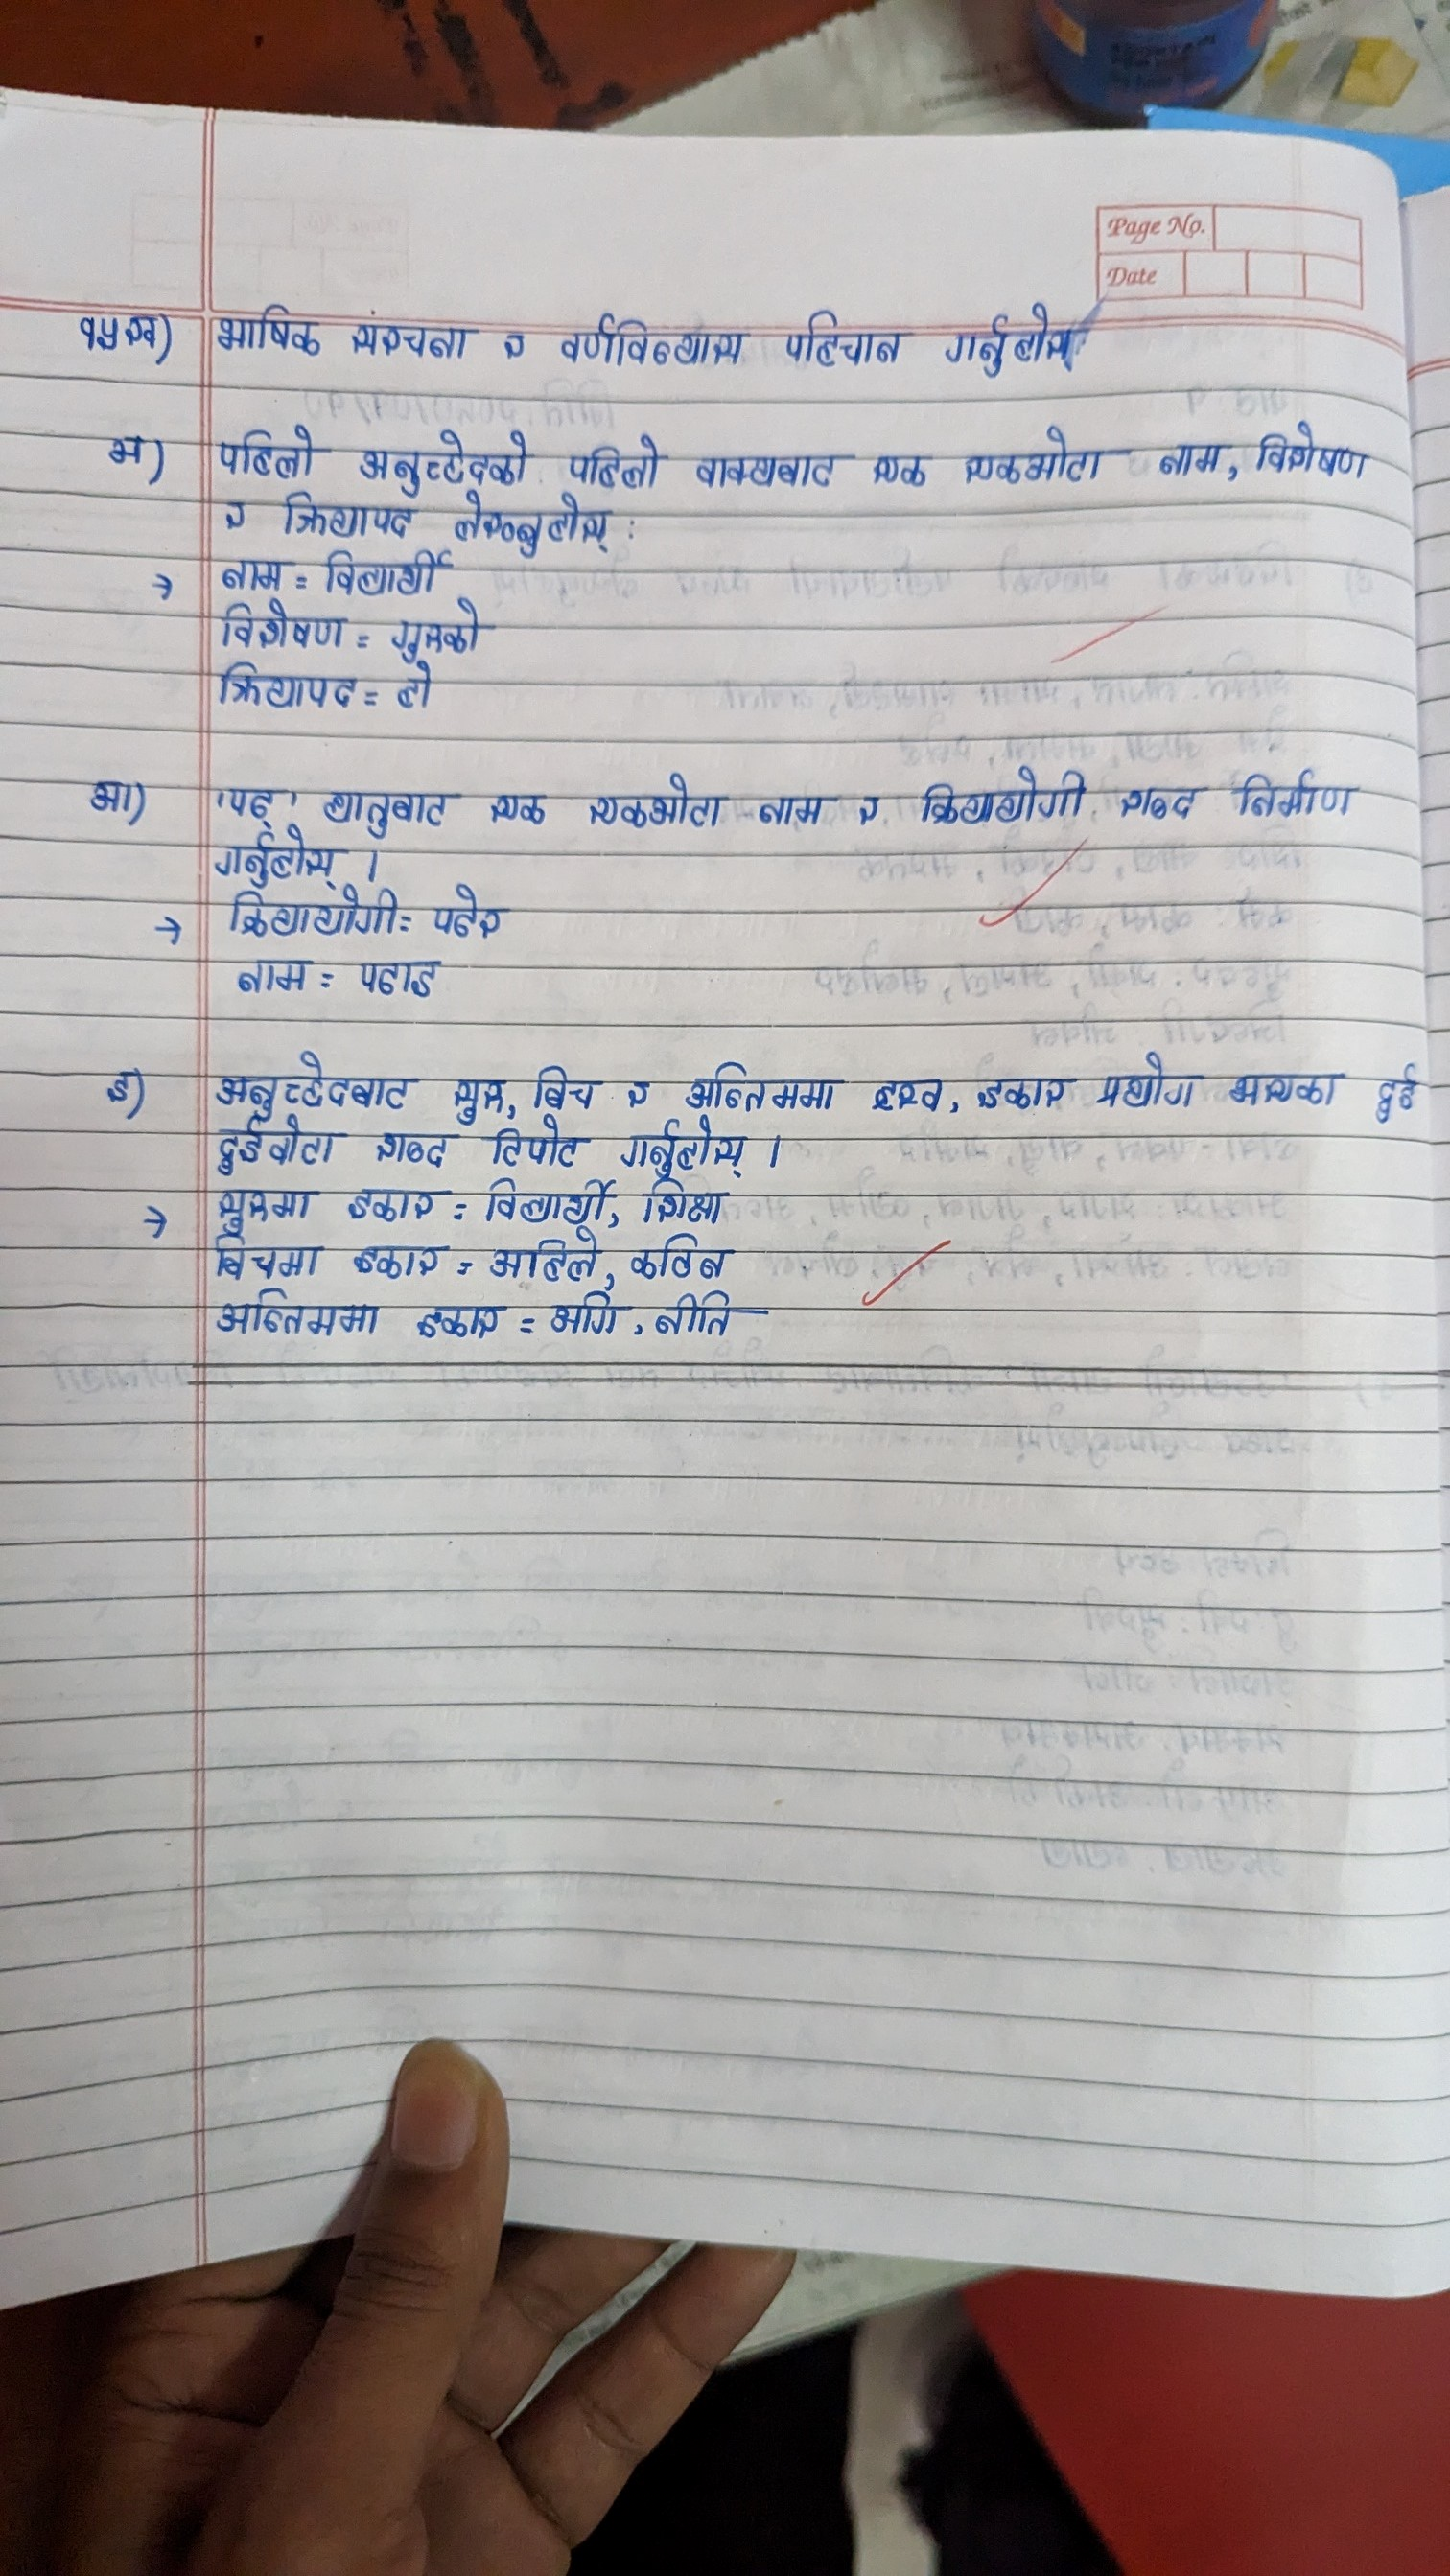text: (198, 1051, 425, 1113), (551, 303, 752, 372), (356, 421, 533, 494), (572, 763, 729, 835), (935, 304, 1084, 380), (917, 763, 1087, 826), (678, 1049, 843, 1113), (768, 304, 915, 373), (209, 292, 333, 368), (954, 428, 1115, 485), (198, 1288, 382, 1338), (225, 886, 398, 938), (451, 499, 618, 552), (343, 303, 480, 364), (313, 775, 455, 833), (202, 660, 361, 711), (1246, 426, 1377, 487), (211, 1118, 340, 1173), (1087, 1051, 1200, 1113), (1215, 1060, 1338, 1116), (620, 1118, 745, 1173), (690, 444, 834, 492), (212, 418, 320, 479), (209, 602, 349, 649), (273, 494, 418, 540), (482, 1231, 605, 1284), (1227, 766, 1353, 817), (340, 950, 448, 1008), (211, 835, 342, 883), (483, 1178, 613, 1226), (386, 600, 487, 660), (559, 432, 660, 488), (320, 548, 448, 593), (968, 1062, 1068, 1116), (425, 878, 510, 941), (648, 1288, 745, 1341), (629, 1235, 735, 1281), (862, 1067, 947, 1122), (414, 1300, 512, 1348), (81, 1049, 156, 1111), (205, 1238, 317, 1279), (209, 1185, 313, 1228), (351, 1231, 443, 1279), (517, 1058, 593, 1115), (535, 1295, 629, 1339), (860, 442, 935, 495), (1147, 433, 1227, 483), (234, 948, 313, 998), (1363, 1053, 1420, 1122), (1110, 782, 1204, 823), (482, 1127, 579, 1166), (336, 1184, 434, 1223), (637, 1182, 722, 1224), (370, 1125, 453, 1168), (124, 303, 179, 364), (94, 414, 149, 472), (81, 768, 140, 823), (395, 663, 455, 717), (444, 1072, 505, 1125), (752, 786, 823, 830), (221, 547, 283, 589), (223, 777, 278, 824), (483, 789, 549, 828), (496, 317, 536, 370), (81, 304, 124, 352), (212, 494, 255, 534), (848, 787, 883, 833), (618, 1069, 653, 1111)
